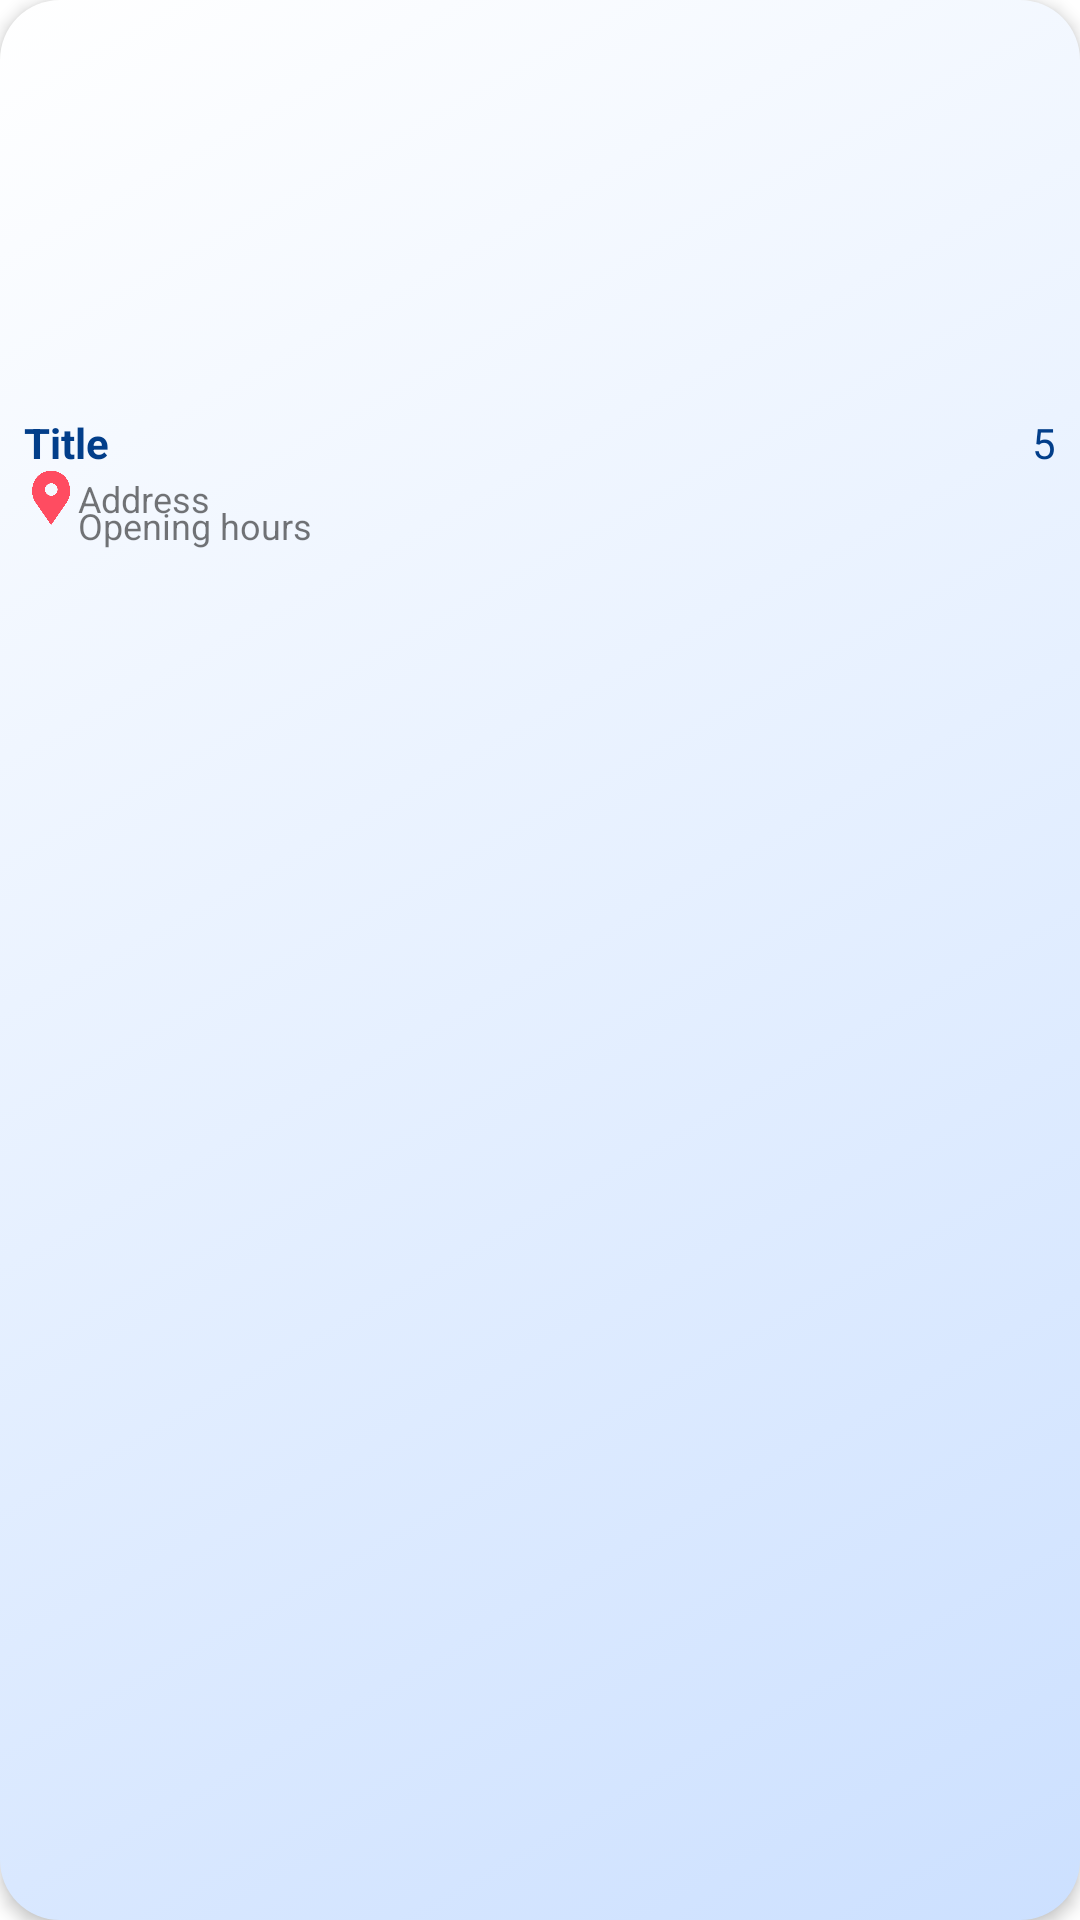

Named icons in this screenshot (1080 x 1920) and their bounding boxes, (x1, y1, x2, y2):
location: (32, 471, 70, 525)
